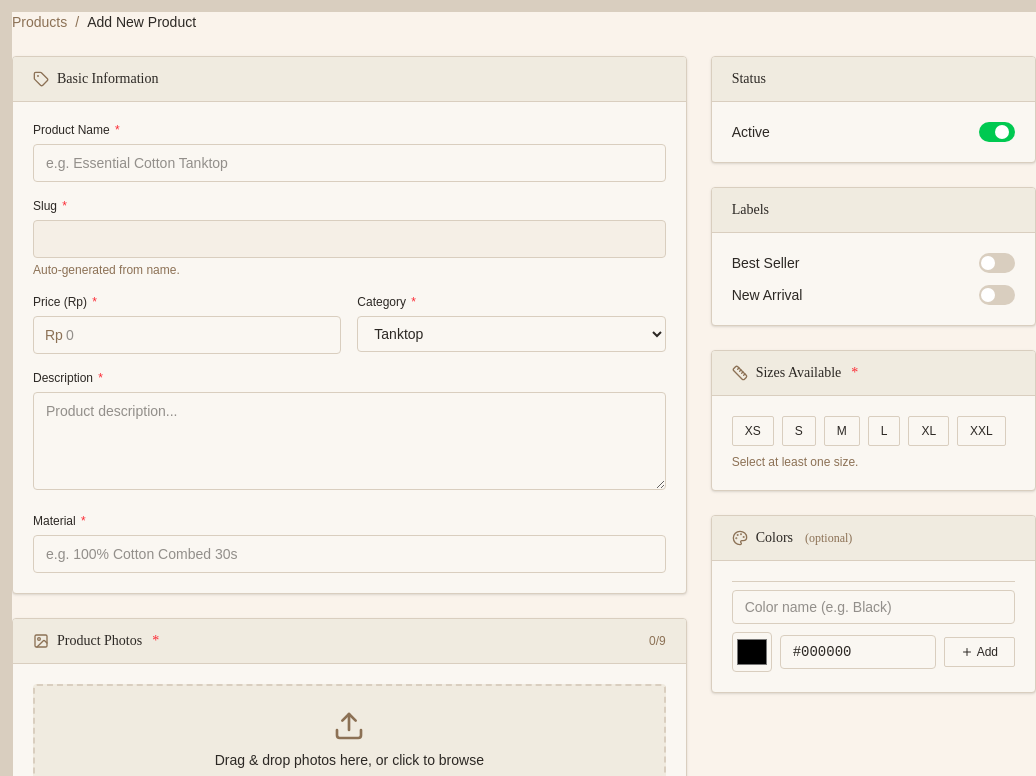
Scenario: ProductForm › Add mode (no product prop) › removes a color
Type "Red" into the field with placeholder "Color name (e.g. Black)".
click(873, 607); type("Red")  # box [732, 590, 1015, 624]
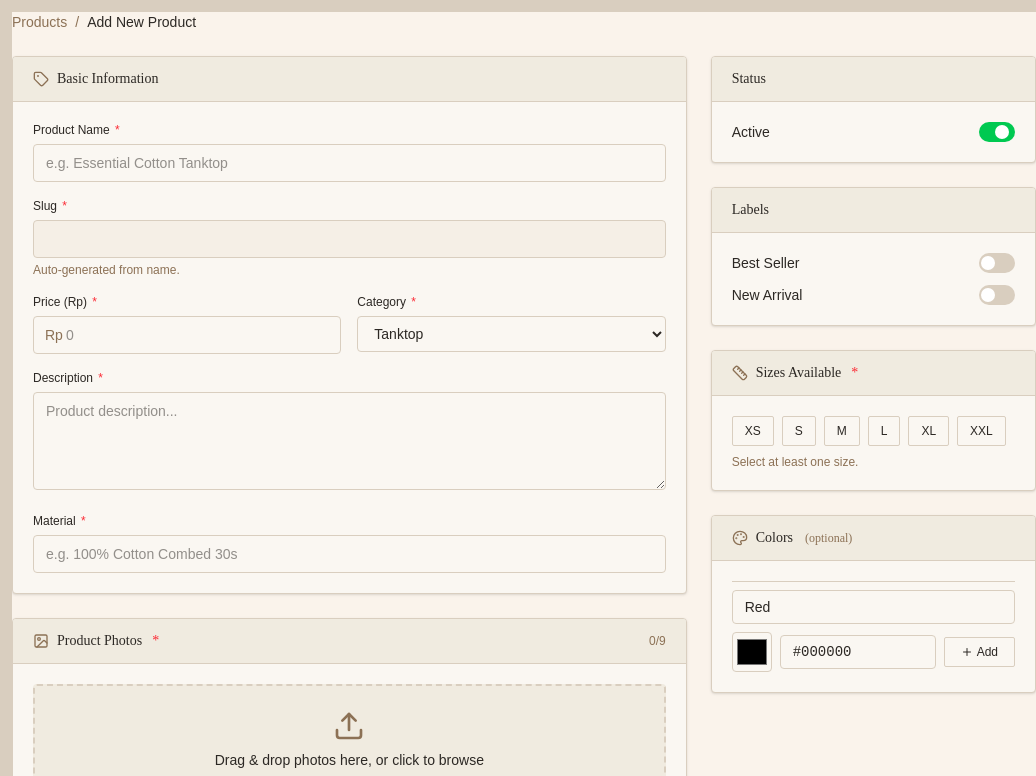
Click the button "Add".
click(979, 652)  # box [944, 637, 1015, 667]
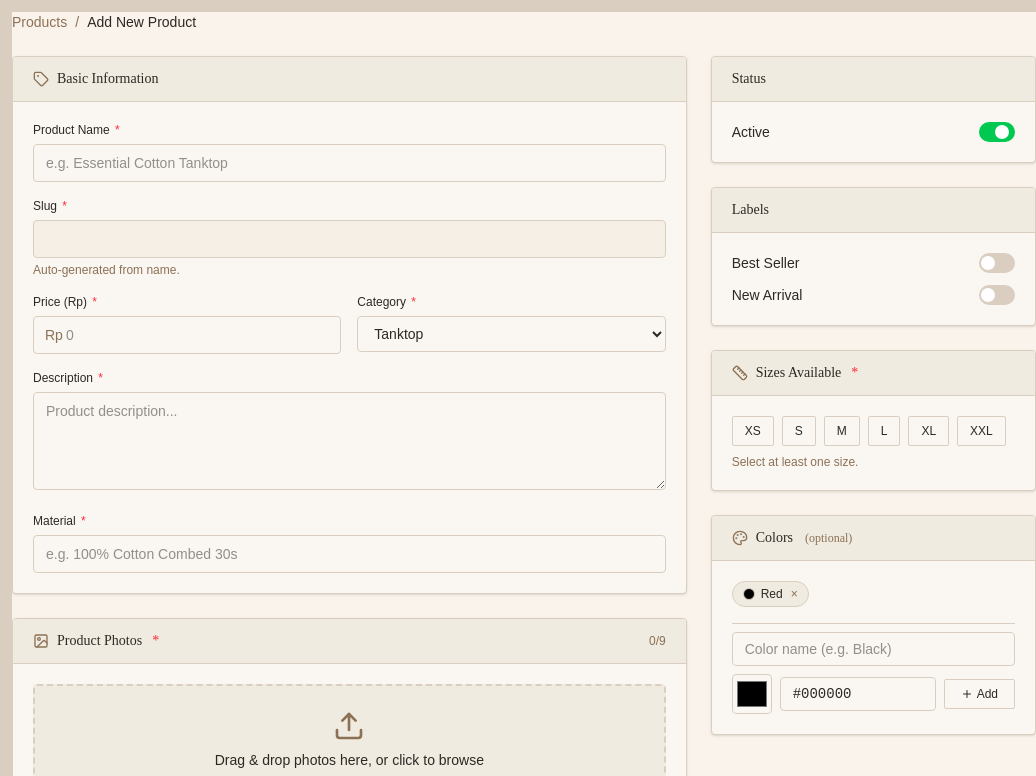
Check: the text "Red" is shown, box [761, 587, 783, 601]
Click the button "×".
click(794, 594)  # box [791, 586, 798, 602]
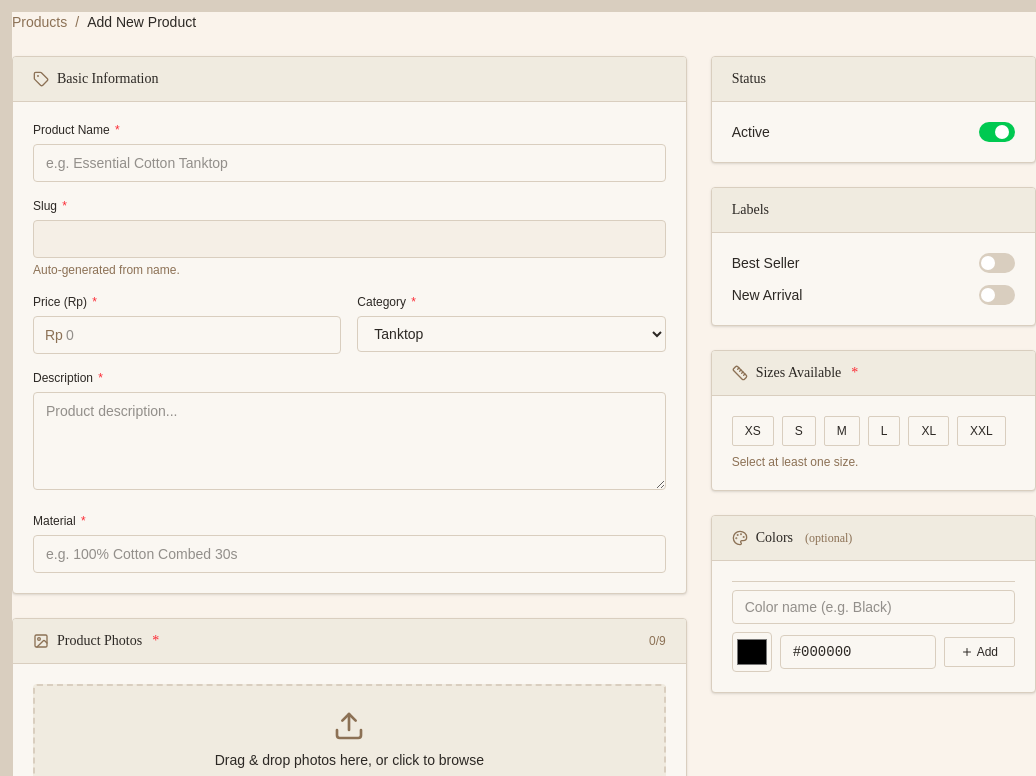
Check: the text "Red" is gone
